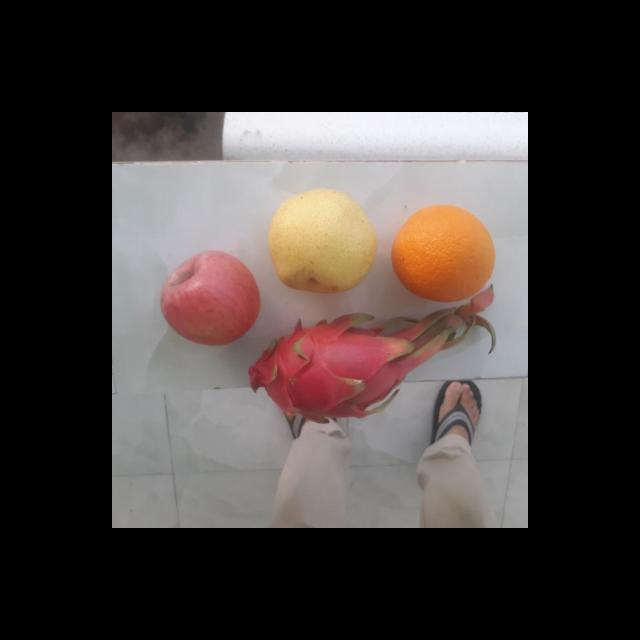apple: (155, 249, 259, 344)
orange: (392, 204, 498, 302)
pear: (262, 188, 378, 294)
pitaya: (242, 320, 394, 420)
